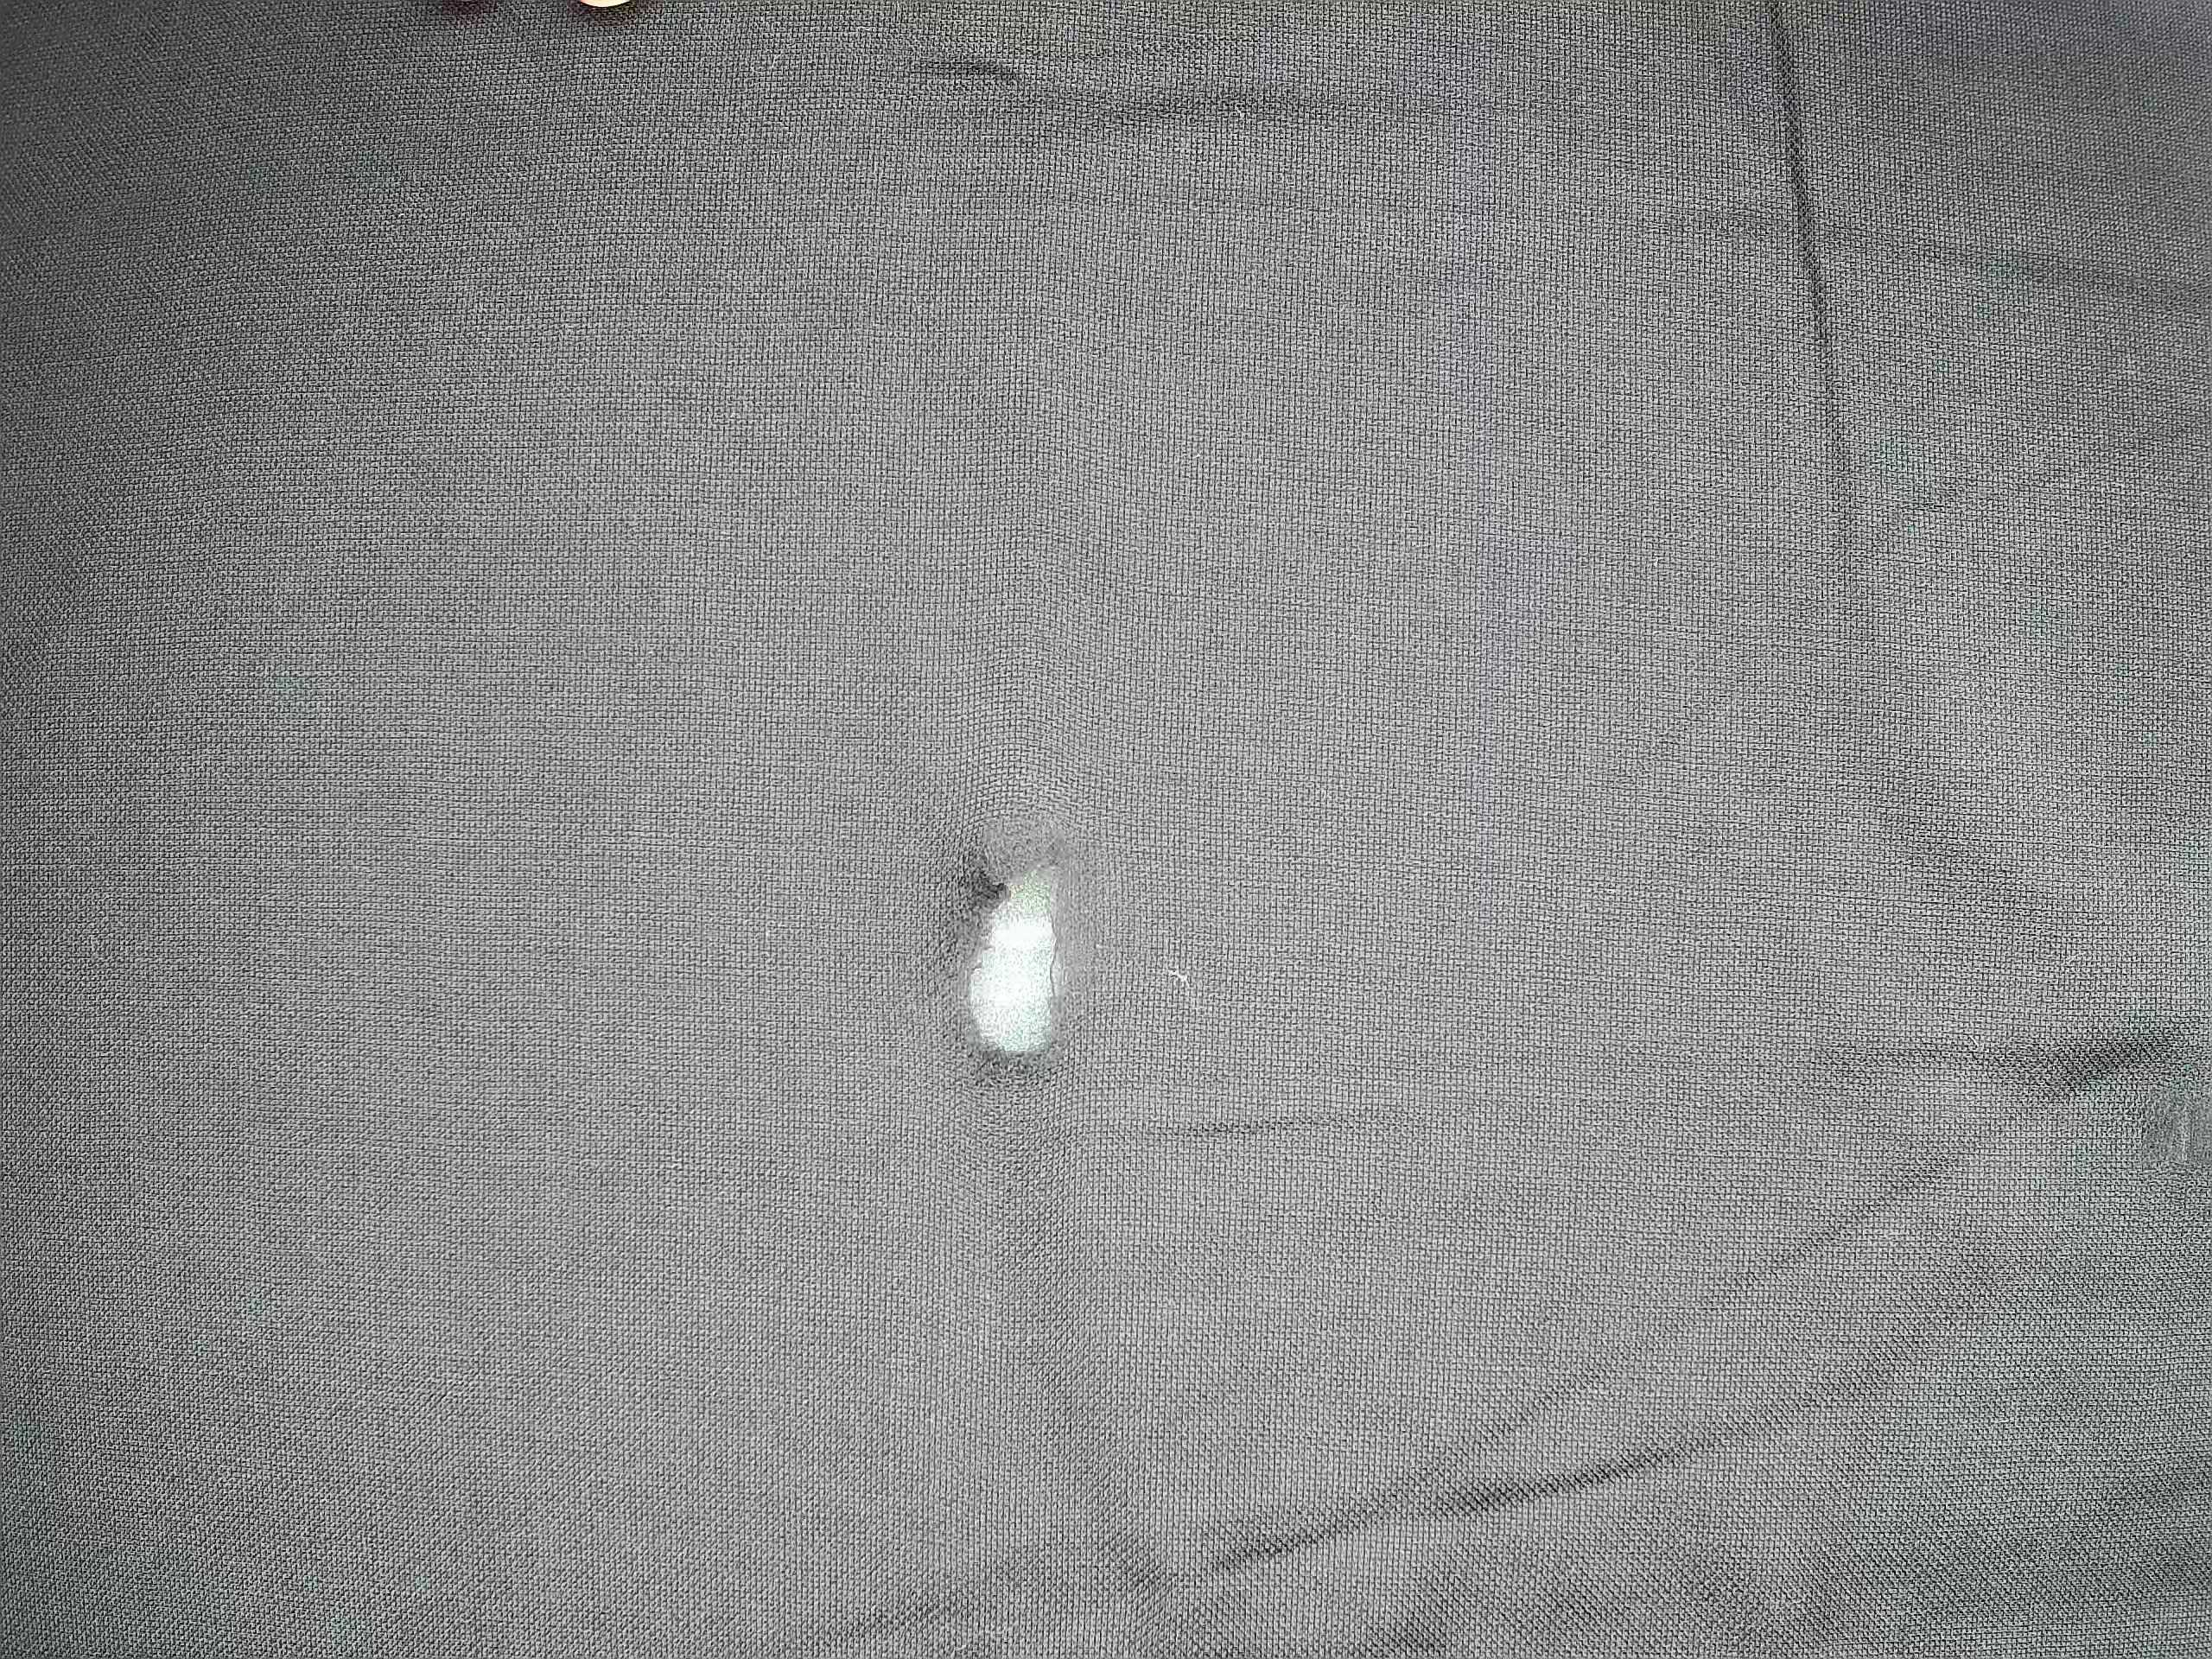rubbing-hole: (920, 814, 1113, 1096)
